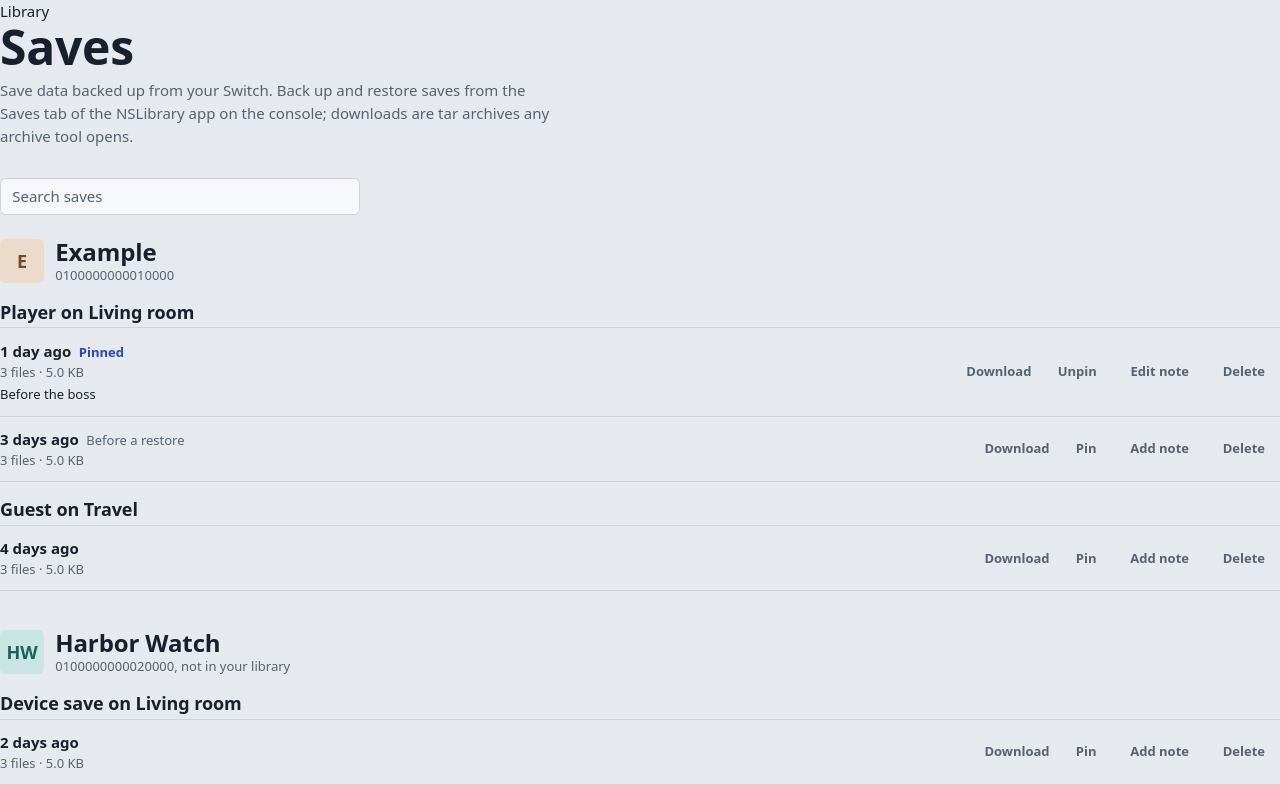
Scenario: SavesPage › deletes a backup only after confirming
Click the button with aria-label "Delete the Example backup" at (1244, 372), box left=1208, top=355, right=1279, bottom=389
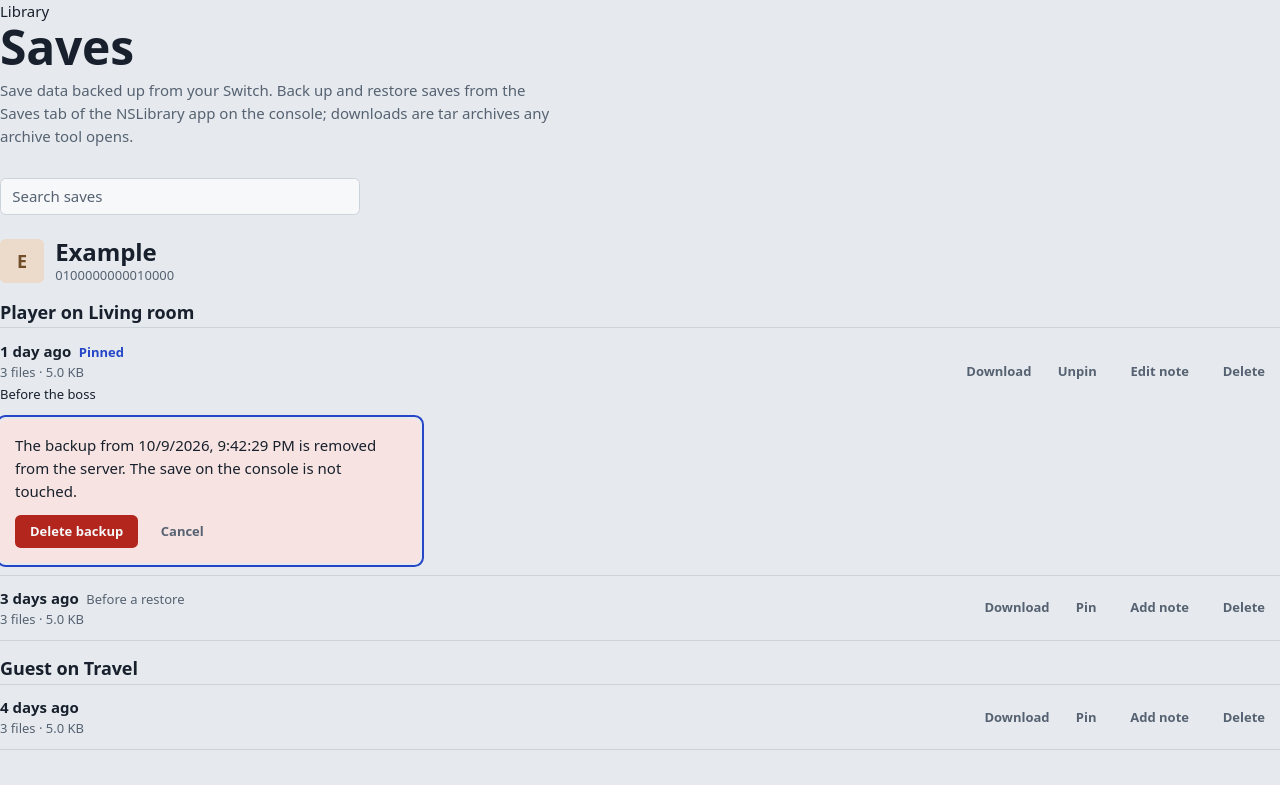
Click the button "Cancel" at (182, 531), box left=146, top=514, right=219, bottom=548
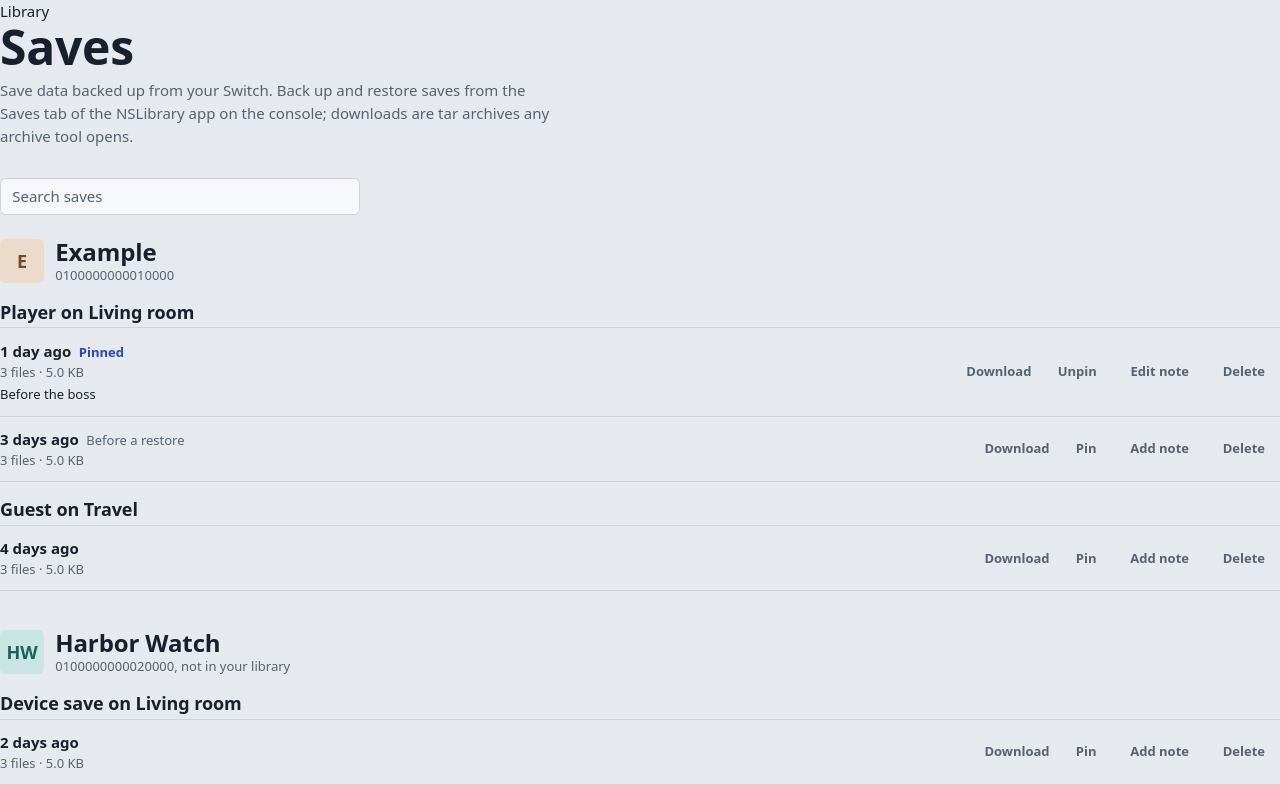
Click the button with aria-label "Delete the Example backup" at (1244, 558), box left=1208, top=541, right=1279, bottom=575
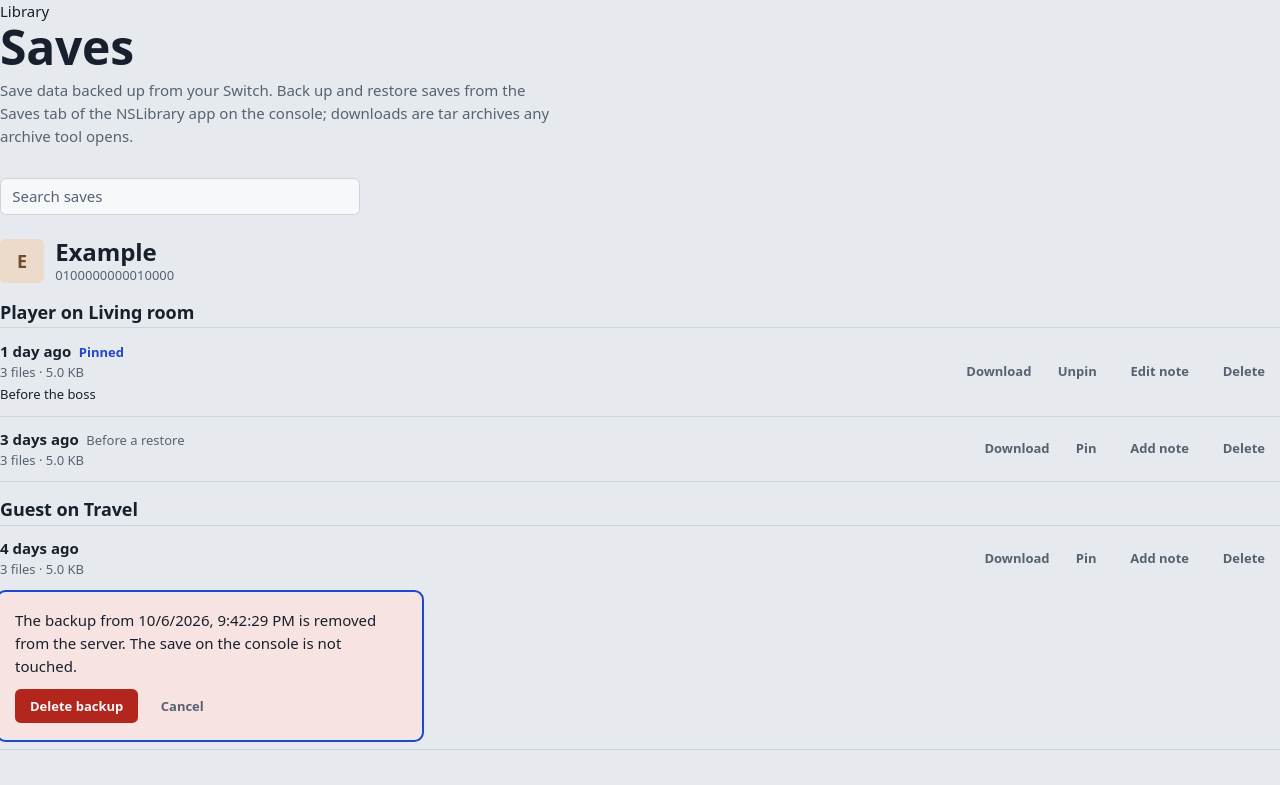
Click the button "Delete backup" at (77, 706), box left=15, top=689, right=138, bottom=723
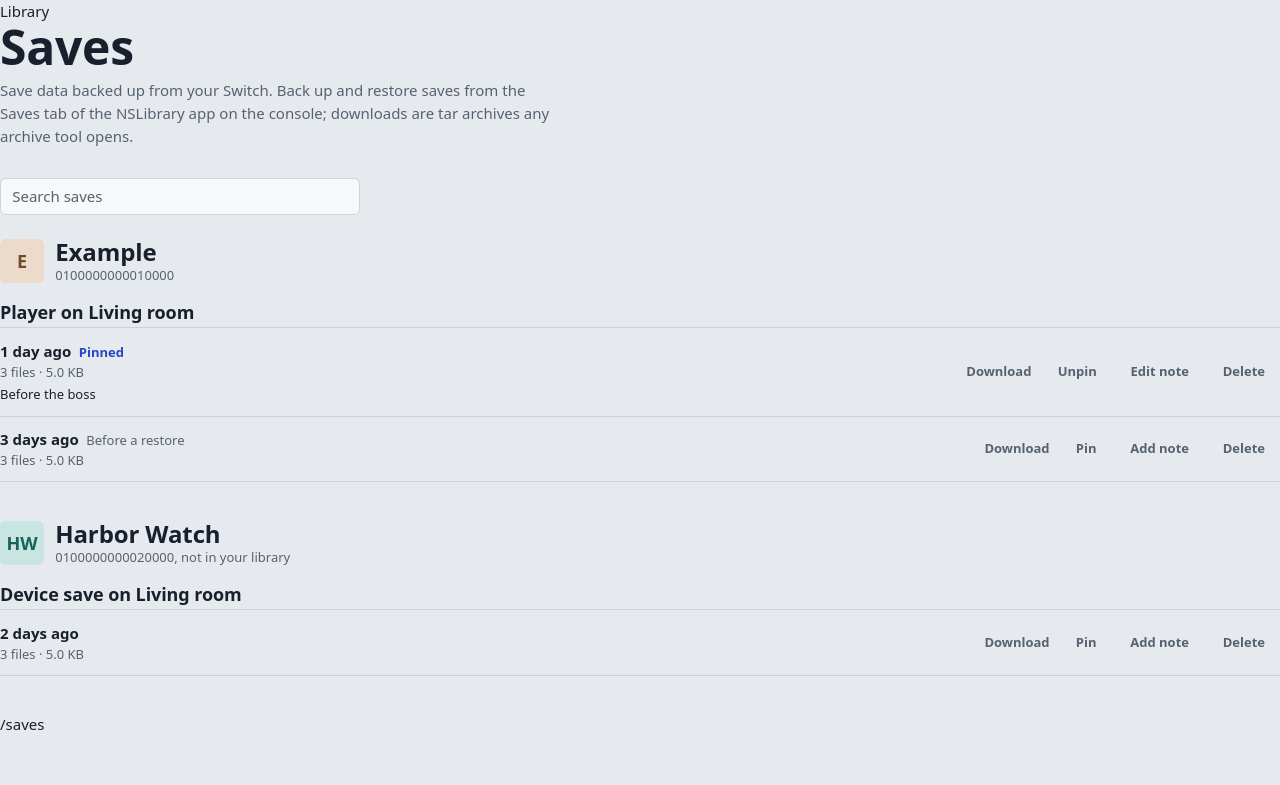
Expected: the heading "Guest on Travel" is gone
